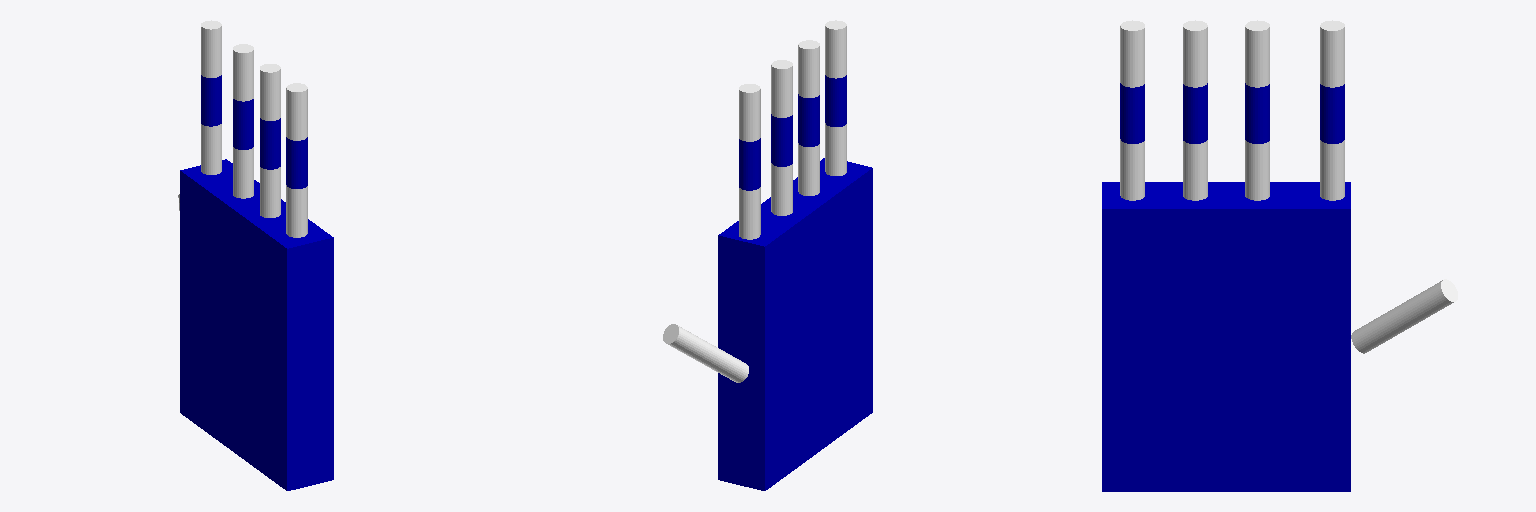
The robot description file, URDF, robot "visual":
<?xml version="1.0"?>
<robot name="visual">

  <material name="blue">
    <color rgba="0 0 0.8 1"/>
  </material>
  <material name="black">
    <color rgba="0 0 0 1"/>
  </material>
  <material name="white">
    <color rgba="1 1 1 1"/>
  </material>

  <link name="base_link">
    <visual>
      <geometry>
        <box size="0.1 0.4 0.5"/>
      </geometry>
      <material name="blue"/>
    </visual>
  </link>


  <link name="index_phalanx_base">
    <visual>
      <geometry>
        <cylinder length="0.1" radius="0.02"/>
      </geometry>
      <origin xyz="0 0.0 0.05"/>
      <material name="white"/>
    </visual>
  </link>

  <link name="index_phalanx_2">
    <visual>
      <geometry>
        <cylinder length="0.1" radius="0.02"/>
      </geometry>
      <material name="blue"/>
       <origin xyz="0 0.0 0.05"/>
    </visual>
  </link>

  <link name="index_phalanx_3">
    <visual>
      <geometry>
        <cylinder length="0.1" radius="0.02"/>
      </geometry>
      <material name="white"/>
       <origin xyz="0 0.0 0.05"/>
    </visual>
  </link>


  <joint name="index_phalanx_base_joint" type="revolute">
    <axis xyz="0 1 0"/>
    <limit effort="1000.0" lower="0.0" upper="1" velocity="0.5"/>
    <parent link="base_link"/>
    <child link="index_phalanx_base"/>
    <origin xyz="0 0.17 0.25"/>
  </joint>
  <joint name="index_phalanx_2_joint" type="revolute">
    <axis xyz="0 1 0"/>
    <limit effort="1000.0" lower="0.0" upper="1" velocity="0.5"/>
    <parent link="index_phalanx_base"/>
    <child link="index_phalanx_2"/>
    <origin xyz="0 0 0.1"/>
   
  </joint>

  <joint name="index_phalanx_3_joint" type="revolute">
    <axis xyz="0 1 0"/>
    <limit effort="1000.0" lower="0.0" upper="1" velocity="0.5"/>
    <parent link="index_phalanx_2"/>
    <child link="index_phalanx_3"/>
    <origin xyz="0 0 0.1"/>
   
  </joint>



  <!--second finger-->
  <link name="second_finger_phalanx_base">
    <visual>
      <geometry>
        <cylinder length="0.1" radius="0.02"/>
      </geometry>
      <origin xyz="0 0.0 0.05"/>
      <material name="white"/>
    </visual>
  </link>

  <link name="second_finger_phalanx_2">
    <visual>
      <geometry>
        <cylinder length="0.1" radius="0.02"/>
      </geometry>
      <material name="blue"/>
       <origin xyz="0 0.0 0.05"/>
    </visual>
  </link>

  <link name="second_finger_phalanx_3">
    <visual>
      <geometry>
        <cylinder length="0.1" radius="0.02"/>
      </geometry>
      <material name="white"/>
       <origin xyz="0 0.0 0.05"/>
    </visual>
  </link>


  <joint name="second_finger_phalanx_base_joint" type="revolute">
    <axis xyz="0 1 0"/>
    <limit effort="1000.0" lower="0.0" upper="1" velocity="0.5"/>
    <parent link="base_link"/>
    <child link="second_finger_phalanx_base"/>
    <origin xyz="0 0.05 0.25"/>
  </joint>
  <joint name="second_finger_phalanx_2_joint" type="revolute">
    <axis xyz="0 1 0"/>
    <limit effort="1000.0" lower="0.0" upper="1" velocity="0.5"/>
    <parent link="second_finger_phalanx_base"/>
    <child link="second_finger_phalanx_2"/>
    <origin xyz="0 0 0.1"/>
   
  </joint>

  <joint name="second_finger_phalanx_3_joint" type="revolute">
    <axis xyz="0 1 0"/>
    <limit effort="1000.0" lower="0.0" upper="1" velocity="0.5"/>
    <parent link="second_finger_phalanx_2"/>
    <child link="second_finger_phalanx_3"/>
    <origin xyz="0 0 0.1"/>
   
  </joint>


  <!--third finger-->
  <link name="third_finger_phalanx_base">
    <visual>
      <geometry>
        <cylinder length="0.1" radius="0.02"/>
      </geometry>
      <origin xyz="0 0.00 0.05"/>
      <material name="white"/>
    </visual>
  </link>

  <link name="third_finger_phalanx_2">
    <visual>
      <geometry>
        <cylinder length="0.1" radius="0.02"/>
      </geometry>
      <material name="blue"/>
      <origin xyz="0 0.0 0.05"/>
    </visual>
  </link>

  <link name="third_finger_phalanx_3">
    <visual>
      <geometry>
        <cylinder length="0.1" radius="0.02"/>
      </geometry>
      <material name="white"/>
      <origin xyz="0 0.0 0.05"/>
    </visual>
  </link>

  <joint name="third_finger_base_joint" type="revolute">
    <axis xyz="0 1 0"/>
    <limit effort="1000.0" lower="0.0" upper="1" velocity="0.5"/>
    <parent link="base_link"/>
    <child link="third_finger_phalanx_base"/>
    <origin xyz="0 -0.05 0.25"/>
  </joint>

  <joint name="third_finger_2_joint" type="revolute">
    <axis xyz="0 1 0"/>
    <limit effort="1000.0" lower="0.0" upper="1" velocity="0.5"/>
    <parent link="third_finger_phalanx_base"/>
    <child link="third_finger_phalanx_2"/>
    <origin xyz="0 0 0.1"/>
  </joint>

  <joint name="third_finger_3_joint" type="revolute"> 
    <axis xyz="0 1 0"/>
    <limit effort="1000.0" lower="0.0" upper="1" velocity="0.5"/>
    <parent link="third_finger_phalanx_2"/> 
    <child link="third_finger_phalanx_3"/>
    <origin xyz="0 0 0.1"/>
  </joint>

  <!--forth finger-->
  <link name="forth_finger_phalanx_base">
    <visual>
      <geometry>
        <cylinder length="0.1" radius="0.02"/>
      </geometry>
      <origin xyz="0 0 0.05"/>
      <material name="white"/>
    </visual>
  </link>

  <link name="forth_finger_phalanx_2">
    <visual>
      <geometry>
        <cylinder length="0.1" radius="0.02"/>
      </geometry>
      <material name="blue"/>
      <origin xyz="0 0.0 0.05"/>
    </visual>
  </link>

  <link name="forth_finger_phalanx_3">
    <visual>
      <geometry>
        <cylinder length="0.1" radius="0.02"/>
      </geometry>
      <material name="white"/>
      <origin xyz="0 0.0 0.05"/>
    </visual>
  </link>

  <joint name="forth_finger_base_joint" type="revolute">
    <axis xyz="0 1 0"/>
    <limit effort="1000.0" lower="0.0" upper="1" velocity="0.5"/>
    <parent link="base_link"/>
    <child link="forth_finger_phalanx_base"/>
    <origin xyz="0 -0.15 0.25"/>
  </joint>

  <joint name="forth_finger_2_joint" type="revolute">
    <axis xyz="0 1 0"/>
    <limit effort="1000.0" lower="0.0" upper="1" velocity="0.5"/>
    <parent link="forth_finger_phalanx_base"/>
    <child link="forth_finger_phalanx_2"/>
    <origin xyz="0 0 0.1"/>
  </joint>

  <joint name="forth_finger_3_joint" type="revolute"> 
    <axis xyz="0 1 0"/>
    <limit effort="1000.0" lower="0.0" upper="1" velocity="0.5"/>
    <parent link="forth_finger_phalanx_2"/> 
    <child link="forth_finger_phalanx_3"/>
    <origin xyz="0 0 0.1"/>
  </joint>

  <!--thumb-->
  <link name="thumb_phalanx_base">
    <visual>
      <geometry>
        <cylinder length="0.1" radius="0.02"/>
      </geometry>
      <origin xyz="0 0.02 0.05"/>
      <material name="white"/>
    </visual>
  </link>

  <link name="thumb_phalanx_2">
    <visual>
      <geometry>
        <cylinder length="0.1" radius="0.02"/>
      </geometry>
      <origin xyz="0 0.02 0.05"/>
      <material name="white"/>
    </visual>
  </link>

  <joint name="thumb_finger_base_joint" type="revolute">
    <axis xyz="-1 0 0"/>
    <limit effort="1000.0" lower="0.0" upper="1" velocity="0.5"/>
    <parent link="base_link"/>
    <child link="thumb_phalanx_base"/>
    <origin xyz="0 0.2 0.0" rpy="-0.8 0.5 0"/>
  </joint>

  <joint name="thumb_finger_2_joint" type="revolute">
    <axis xyz="1 0 0"/>
    <limit effort="1000.0" lower="0.0" upper="1" velocity="0.5"/>
    <parent link="thumb_phalanx_base"/>
    <child link="thumb_phalanx_2"/>
    <origin xyz="0 0 0.1"/>
  </joint>

  
</robot>

--- What the picture shows (computed from the rendered views, not written in the file) ---
The picture shows the robot from 3 angles, left to right: view 1: azimuth 30°, elevation 25°; view 2: azimuth 150°, elevation 25°; view 3: azimuth 270°, elevation 25°; orthographic projection.
Robot: visual — 15 links, 14 joints (14 revolute); root link base_link; default pose: all joints at 0.
Visible links, largest first — view 1: base_link, forth_finger_phalanx_3, index_phalanx_3, second_finger_phalanx_3, third_finger_phalanx_3, forth_finger_phalanx_base, forth_finger_phalanx_2, second_finger_phalanx_2, third_finger_phalanx_2, second_finger_phalanx_base, index_phalanx_base, index_phalanx_2 (+1 smaller); view 2: base_link, index_phalanx_3, second_finger_phalanx_3, third_finger_phalanx_3, forth_finger_phalanx_3, thumb_phalanx_2, second_finger_phalanx_base, third_finger_phalanx_base, third_finger_phalanx_2, forth_finger_phalanx_base, second_finger_phalanx_2, index_phalanx_base (+3 smaller); view 3: base_link, index_phalanx_3, third_finger_phalanx_3, second_finger_phalanx_3, forth_finger_phalanx_3, thumb_phalanx_2, index_phalanx_base, third_finger_phalanx_base, second_finger_phalanx_base, forth_finger_phalanx_base, second_finger_phalanx_2, forth_finger_phalanx_2 (+3 smaller).
Link boxes in pixels (left/top/right/bottom): base_link: left=180, top=159, right=333, bottom=490; forth_finger_phalanx_3: left=286, top=83, right=307, bottom=140; index_phalanx_3: left=201, top=20, right=221, bottom=77; second_finger_phalanx_3: left=233, top=44, right=253, bottom=101; third_finger_phalanx_3: left=260, top=64, right=280, bottom=120; forth_finger_phalanx_base: left=286, top=185, right=307, bottom=237; forth_finger_phalanx_2: left=286, top=137, right=307, bottom=188; second_finger_phalanx_2: left=233, top=99, right=253, bottom=149; third_finger_phalanx_2: left=260, top=118, right=280, bottom=169; second_finger_phalanx_base: left=233, top=147, right=253, bottom=198; index_phalanx_base: left=201, top=124, right=221, bottom=174; index_phalanx_2: left=201, top=75, right=221, bottom=126; base_link: left=718, top=158, right=872, bottom=490; index_phalanx_3: left=739, top=84, right=760, bottom=141; second_finger_phalanx_3: left=771, top=60, right=792, bottom=117; third_finger_phalanx_3: left=798, top=40, right=819, bottom=97; forth_finger_phalanx_3: left=825, top=20, right=846, bottom=78; thumb_phalanx_2: left=663, top=324, right=713, bottom=363; second_finger_phalanx_base: left=771, top=163, right=792, bottom=215; third_finger_phalanx_base: left=798, top=143, right=819, bottom=195; third_finger_phalanx_2: left=798, top=94, right=819, bottom=146; forth_finger_phalanx_base: left=825, top=123, right=846, bottom=175; second_finger_phalanx_2: left=771, top=114, right=792, bottom=166; index_phalanx_base: left=739, top=187, right=760, bottom=239; base_link: left=1102, top=182, right=1350, bottom=491; index_phalanx_3: left=1320, top=20, right=1344, bottom=87; third_finger_phalanx_3: left=1183, top=20, right=1207, bottom=87; second_finger_phalanx_3: left=1245, top=20, right=1269, bottom=87; forth_finger_phalanx_3: left=1120, top=20, right=1144, bottom=87; thumb_phalanx_2: left=1396, top=279, right=1457, bottom=327; index_phalanx_base: left=1320, top=140, right=1344, bottom=200; third_finger_phalanx_base: left=1183, top=140, right=1207, bottom=200; second_finger_phalanx_base: left=1245, top=140, right=1269, bottom=200; forth_finger_phalanx_base: left=1120, top=139, right=1144, bottom=200; second_finger_phalanx_2: left=1245, top=83, right=1269, bottom=143; forth_finger_phalanx_2: left=1120, top=83, right=1144, bottom=143.
Size in the robot's own frame: 0.1288 by 0.5713 by 0.8 metres.
Geometry: primitives only (box / cylinder / sphere), no mesh files.